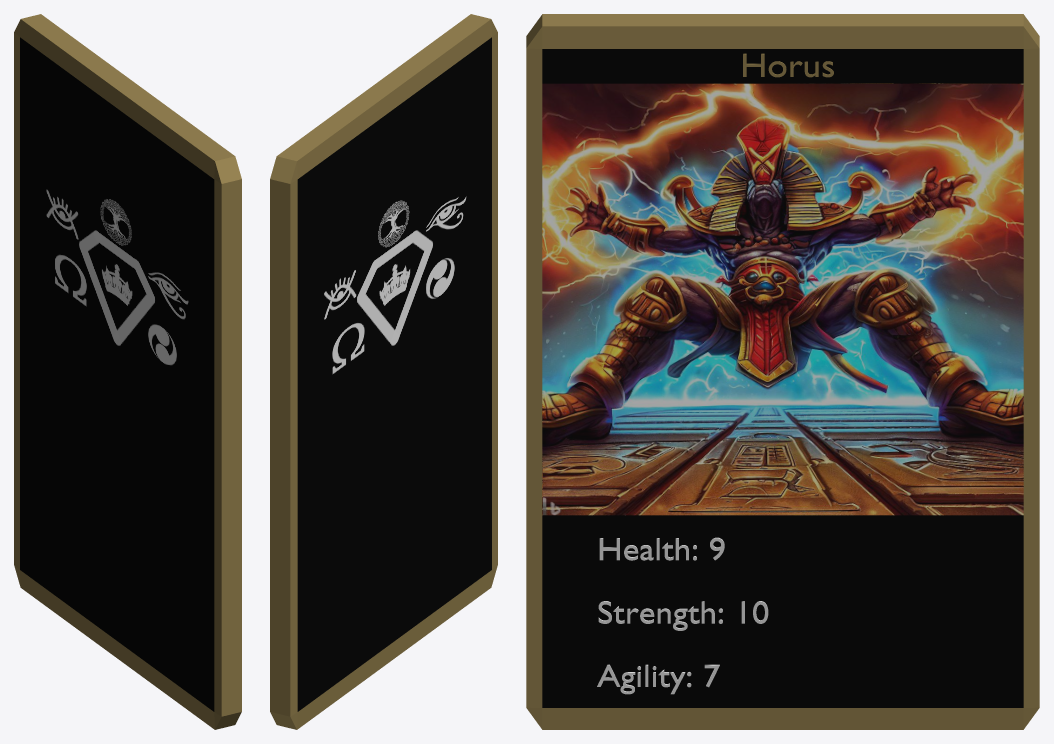
File: Horus.fbx
3 views of the same model, side by side, from view 1: azimuth 30°, elevation 25°; view 2: azimuth 150°, elevation 25°; view 3: azimuth 270°, elevation 25° (orthographic). The views are drawn at different scales.
Parts seen in each view (by area): view 1: Horus; view 2: Horus; view 3: Horus.
Part boxes in pixels (left/top/right/bottom): Horus: left=14, top=14, right=241, bottom=729; Horus: left=270, top=14, right=497, bottom=729; Horus: left=526, top=14, right=1039, bottom=729.
Bounding box in the file's own units: 20.45 × 482 × 319.
5 materials, 2 textured.
